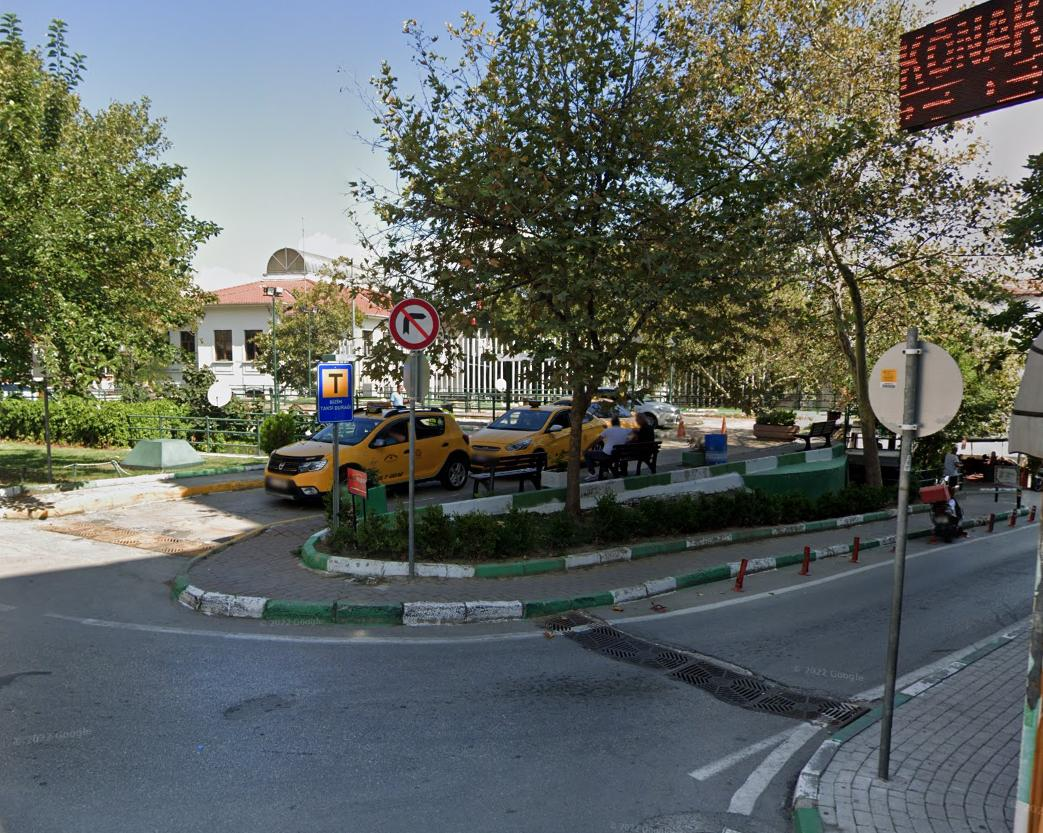rightturnsareforbidden: (391, 299, 438, 346)
